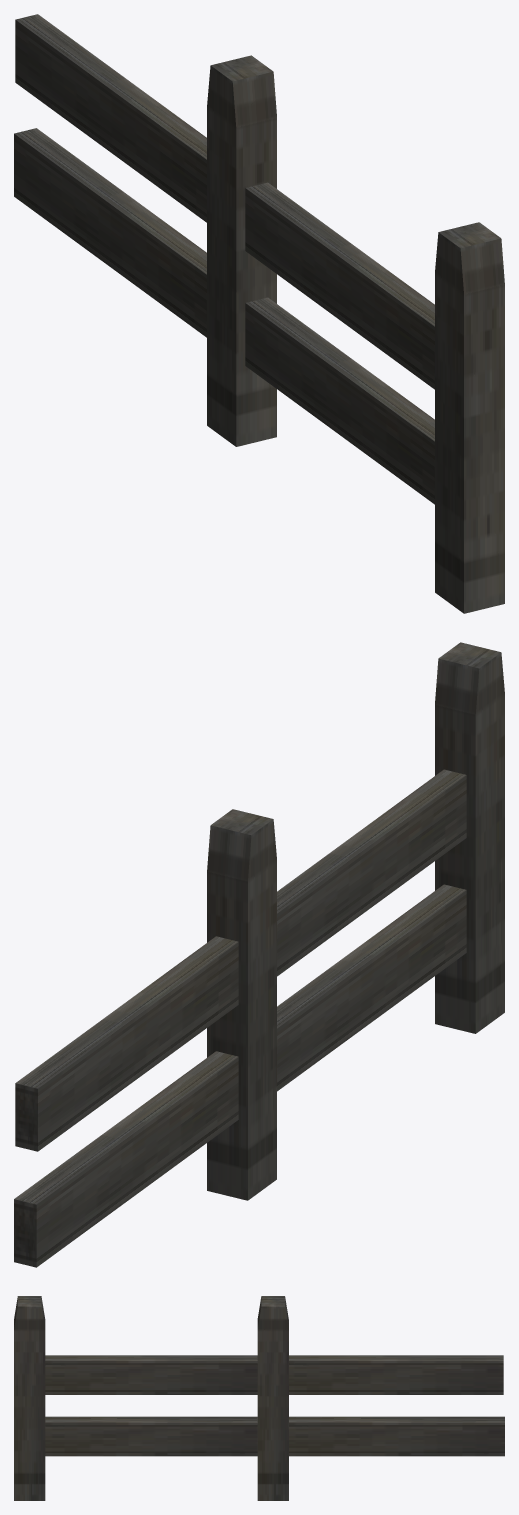
Rendered from cerca.fbx.
The picture shows the model from 3 angles, top to bottom: view 1: azimuth 30°, elevation 25°; view 2: azimuth 150°, elevation 25°; view 3: azimuth 270°, elevation 25°; orthographic projection. The views are drawn at different scales.
Parts seen in each view (by area): view 1: Cube, Cube.001, Cube.005, Cube.004, Cube.003, Cube.002; view 2: Cube, Cube.001, Cube.005, Cube.004, Cube.002, Cube.003; view 3: Cube.005, Cube.003, Cube.004, Cube.002, Cube, Cube.001.
Part boxes in pixels (x1=…): Cube: x1=435, y1=222, x2=504, y2=613; Cube.001: x1=207, y1=55, x2=276, y2=446; Cube.005: x1=14, y1=128, x2=206, y2=337; Cube.004: x1=15, y1=14, x2=206, y2=222; Cube.003: x1=245, y1=297, x2=434, y2=504; Cube.002: x1=245, y1=182, x2=434, y2=389; Cube: x1=435, y1=642, x2=504, y2=1033; Cube.001: x1=207, y1=809, x2=276, y2=1200; Cube.005: x1=14, y1=1051, x2=238, y2=1267; Cube.004: x1=15, y1=936, x2=238, y2=1151; Cube.002: x1=277, y1=769, x2=466, y2=976; Cube.003: x1=277, y1=884, x2=466, y2=1091; Cube.005: x1=289, y1=1416, x2=504, y2=1456; Cube.003: x1=45, y1=1416, x2=257, y2=1456; Cube.004: x1=289, y1=1355, x2=503, y2=1394; Cube.002: x1=45, y1=1355, x2=257, y2=1394; Cube: x1=14, y1=1296, x2=45, y2=1500; Cube.001: x1=257, y1=1296, x2=288, y2=1500.
Bounding box in the file's own units: 38.65 × 328 × 752.
